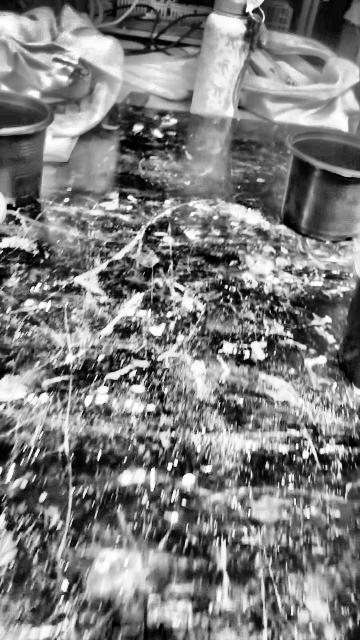pot: (282, 130, 359, 241), (0, 92, 53, 208)
